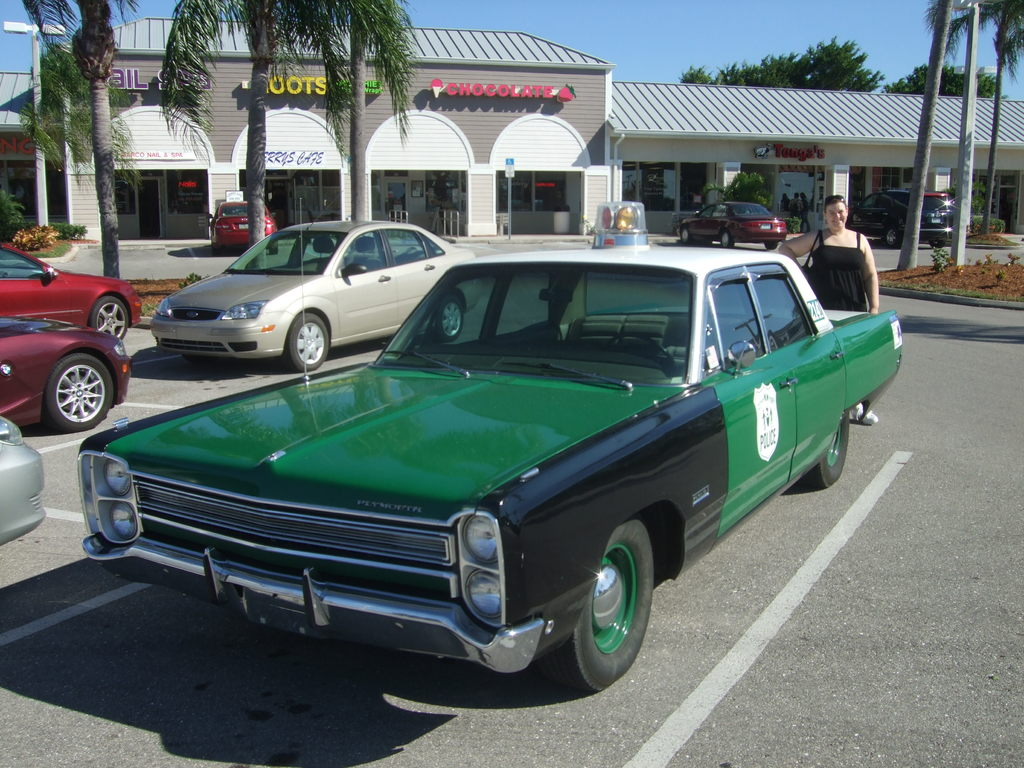Car: (74, 234, 878, 686), (155, 211, 495, 370), (0, 308, 131, 431), (0, 242, 145, 341), (847, 184, 963, 251), (3, 414, 47, 547), (678, 200, 786, 252), (206, 193, 278, 257)
